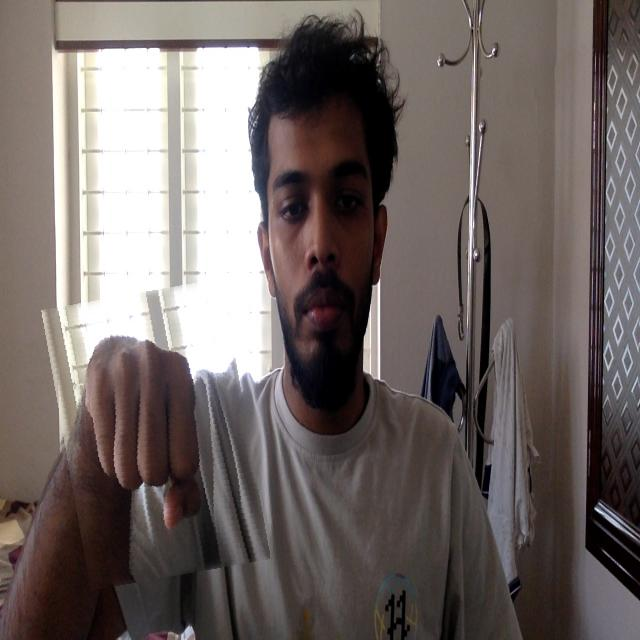Yes: (52, 285, 258, 584)
